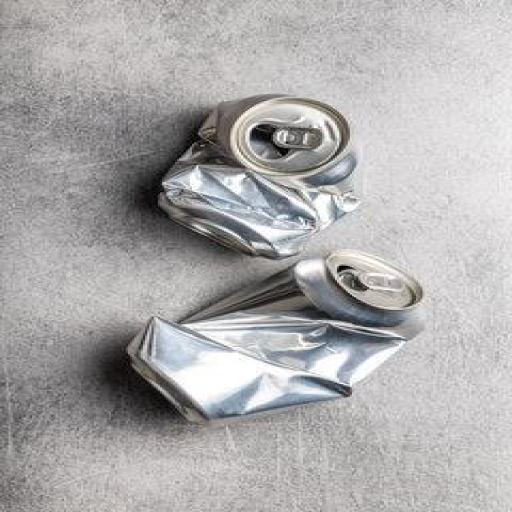can: (124, 247, 429, 427), (154, 92, 362, 260)
pop tab: (273, 127, 325, 151), (356, 272, 409, 292)
